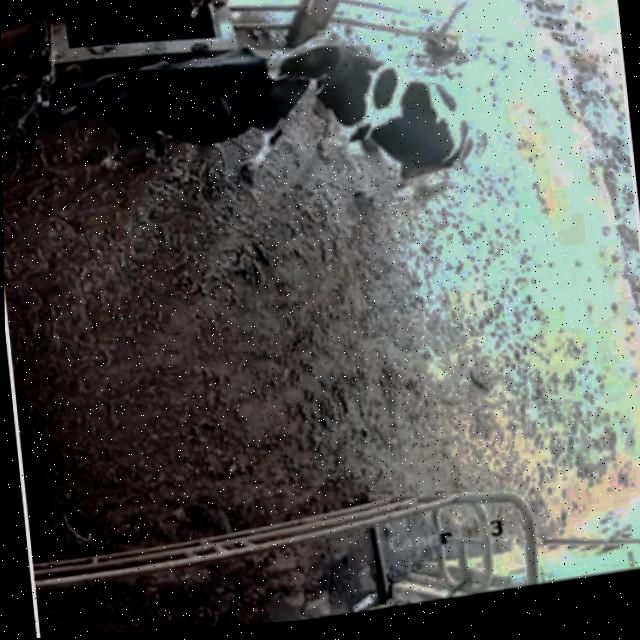propping: (232, 16, 381, 123)
